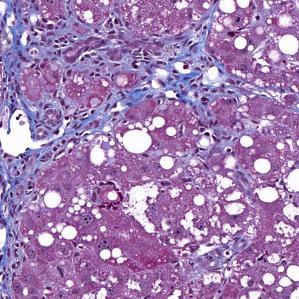fibrosis: (34, 11, 214, 103)
